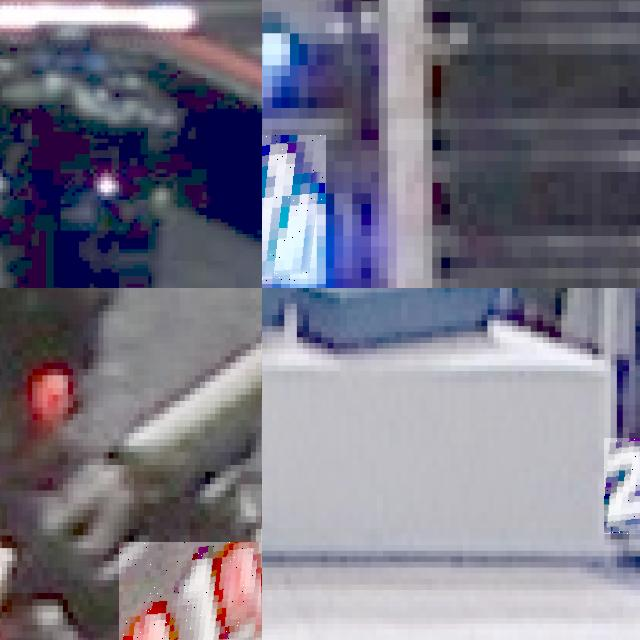B2: (604, 438, 640, 533)
B3: (262, 134, 325, 284)
R1: (118, 542, 262, 640)
